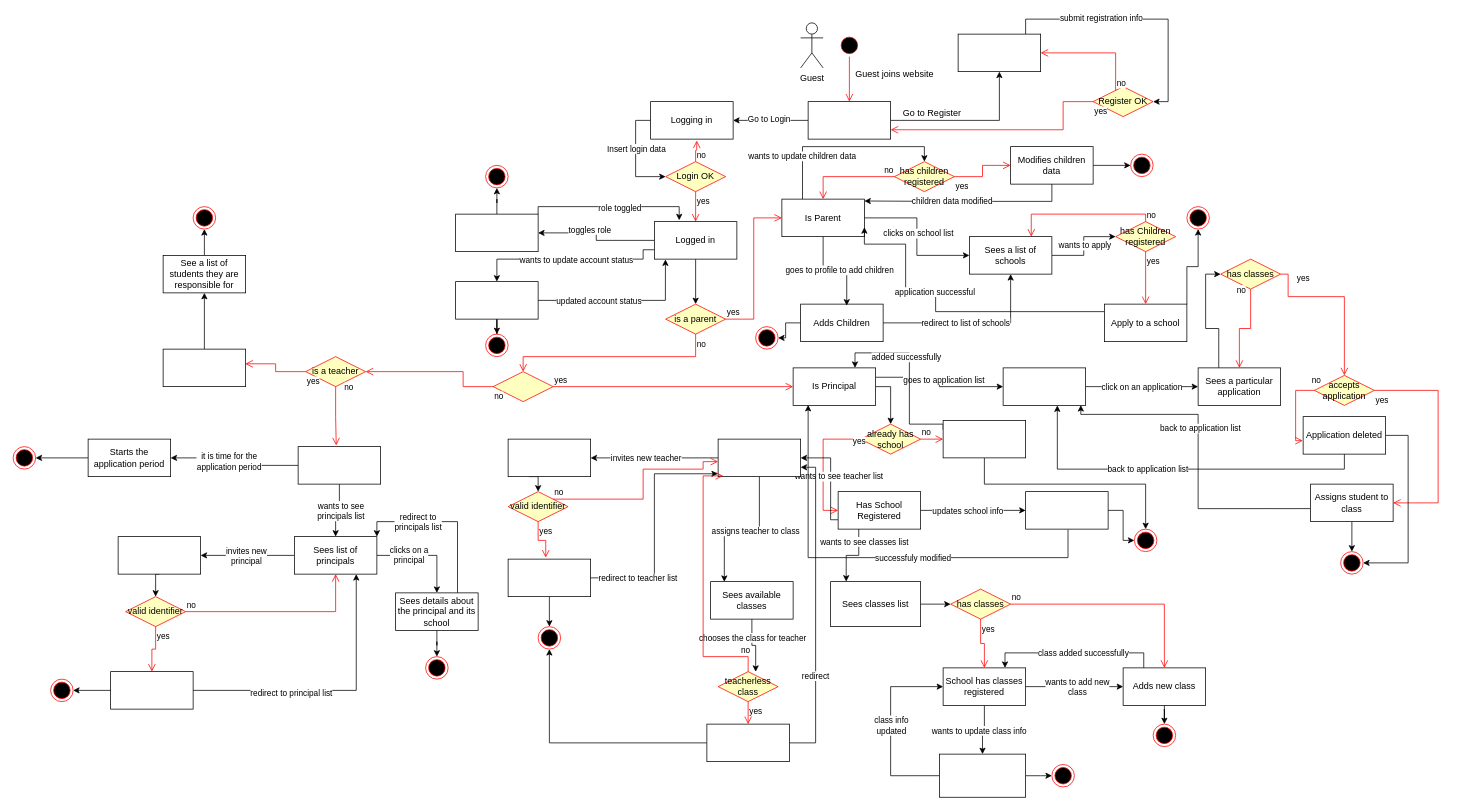
Some shapes in this 1459 by 810 pixel diagram are drawn without their labels. The centre of each missing label's shape, as x and y in pixels:
"Adds School" goes at (x=984, y=439).
"Class and teacher linked successfully" goes at (x=747, y=742).
"Enters principal identifier" goes at (x=159, y=555).
"Enters teacher identifier" goes at (x=549, y=457).
"is a principal" goes at (x=522, y=386).
"Is Administrator" goes at (x=339, y=465).
"Is Teacher" goes at (x=204, y=367).
"Manage account" goes at (x=496, y=300).
"Principal added" goes at (x=151, y=690).
"Registration" goes at (x=999, y=52).
"School data modified" goes at (x=1066, y=510).
"Sees a list of applications" goes at (x=1044, y=386).
"Sees introductory page" goes at (x=849, y=120).
"Sees teacher list" goes at (x=759, y=457).
"Teacher added" goes at (x=549, y=577).
"Toggle role" goes at (x=496, y=232).
"Updates class info" goes at (x=982, y=775).
